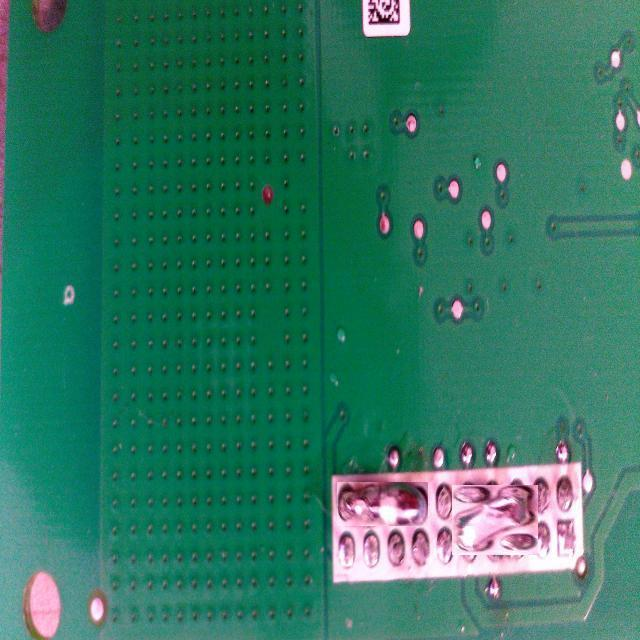Short_circuit: (456, 481, 534, 560), (338, 482, 430, 526)
